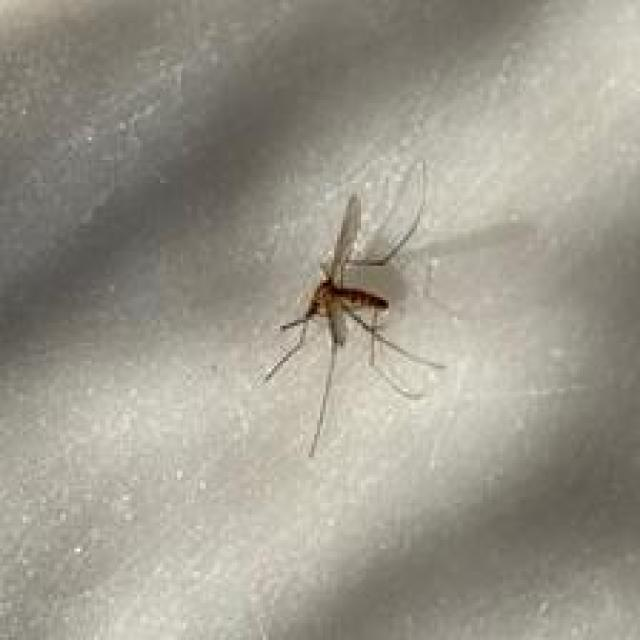Culex: (262, 160, 447, 457)
